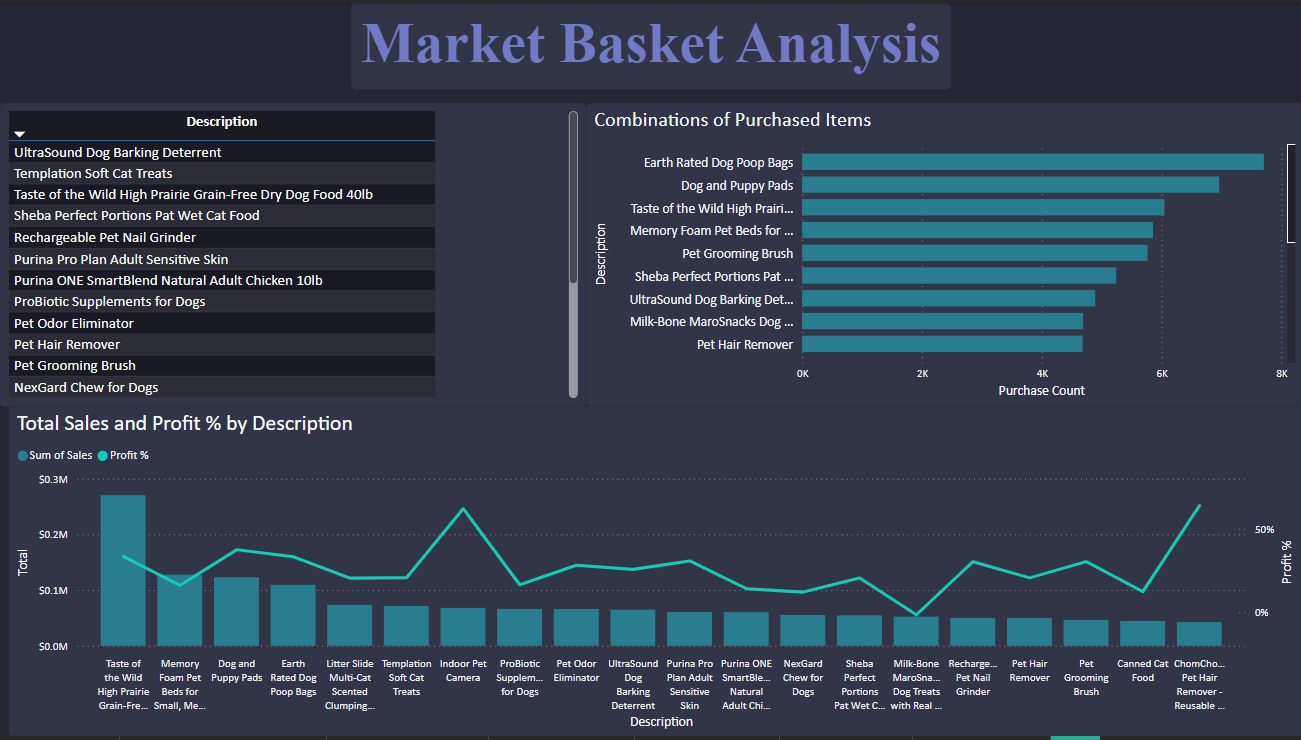

This screenshot's page, from the dashboard's own definition file:
{"tool":"powerbi","page":{"name":"Market Basket Analysis","canvas":[1280,720],"ordinal":4},"visuals":[{"type":"tableEx","fields":{"Values":["Sales.Description"]},"box":[10,0,280,280],"z":0},{"type":"clusteredBarChart","fields":{"Category":["Market Basket.Description"],"Y":["CountNonNull(Sales.Description)"]},"box":[289.8,0,990.2,297.3],"z":1000},{"type":"lineStackedColumnComboChart","fields":{"Category":["Sales.Description"],"Y":["Sum(Sales.Sales)"],"Y2":["_Measures.Profit %"]},"box":[0,296.5,880.7,423.8],"z":2000}]}

Visuals, with their boxes in screenshot pixels (x1, y1, x2, y2), scaled from the page's 1280x720 canvas onto the 1301x740 screenshot:
tableEx - Sales.Description: (left=10, top=0, right=295, bottom=288)
clusteredBarChart - Market Basket.Description x CountNonNull(Sales.Description): (left=295, top=0, right=1300, bottom=306)
lineStackedColumnComboChart - Sales.Description x Sum(Sales.Sales): (left=0, top=305, right=895, bottom=739)
